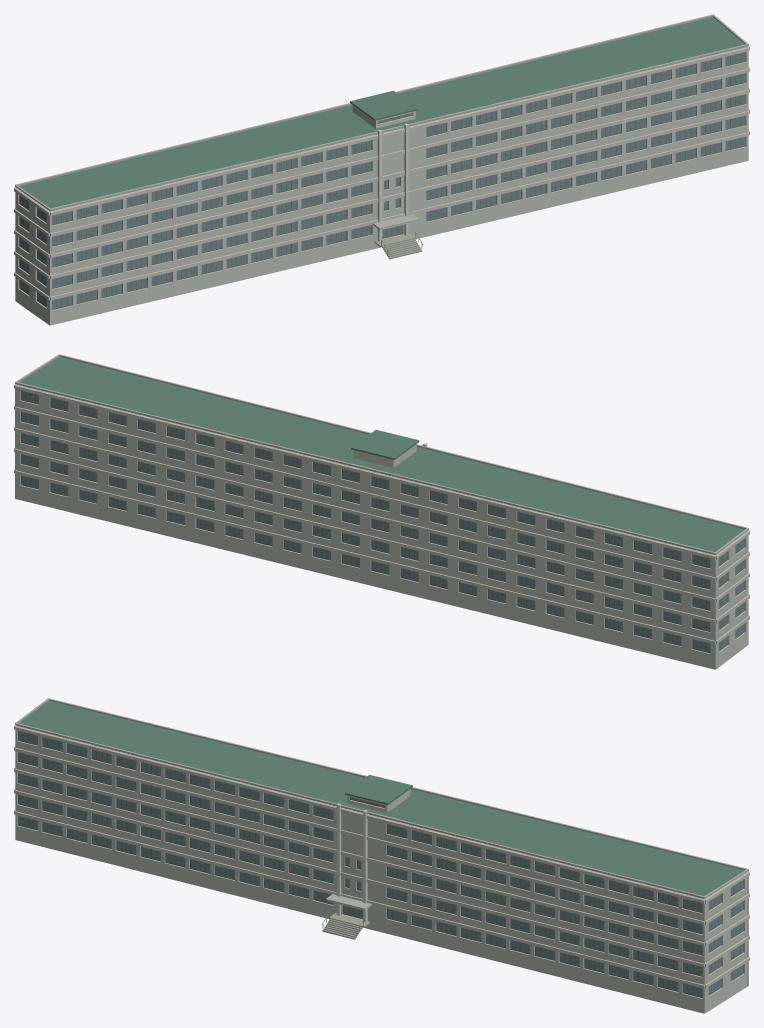
The picture shows the model from 3 angles, top to bottom: view 1: azimuth 30°, elevation 25°; view 2: azimuth 150°, elevation 25°; view 3: azimuth 330°, elevation 25°; orthographic projection.
Parts seen in each view (by area): view 1: middle__wall, middle__glass, middle__roof, middle__white, middle__frame, middle__trim, middle__pier; view 2: middle__wall, middle__roof, middle__glass, middle__white, middle__frame, middle__trim; view 3: middle__wall, middle__glass, middle__roof, middle__white, middle__frame, middle__trim, middle__pier.
Boxes of the visible parts, left/top/right/bottom form: middle__wall: left=15, top=46, right=748, bottom=325; middle__glass: left=19, top=52, right=745, bottom=309; middle__roof: left=19, top=17, right=746, bottom=211; middle__white: left=14, top=46, right=749, bottom=300; middle__frame: left=19, top=52, right=745, bottom=309; middle__trim: left=15, top=14, right=748, bottom=228; middle__pier: left=377, top=123, right=408, bottom=241; middle__wall: left=15, top=384, right=748, bottom=669; middle__roof: left=19, top=357, right=744, bottom=554; middle__glass: left=21, top=390, right=744, bottom=652; middle__white: left=14, top=384, right=749, bottom=644; middle__frame: left=21, top=391, right=744, bottom=653; middle__trim: left=15, top=354, right=748, bottom=554; middle__wall: left=15, top=725, right=748, bottom=1013; middle__glass: left=18, top=731, right=743, bottom=997; middle__roof: left=17, top=701, right=744, bottom=898; middle__white: left=14, top=725, right=749, bottom=988; middle__frame: left=18, top=732, right=743, bottom=997; middle__trim: left=15, top=698, right=748, bottom=909; middle__pier: left=336, top=803, right=367, bottom=922.
Bounding box in the file's own units: 114 × 19.61 × 14.61.
